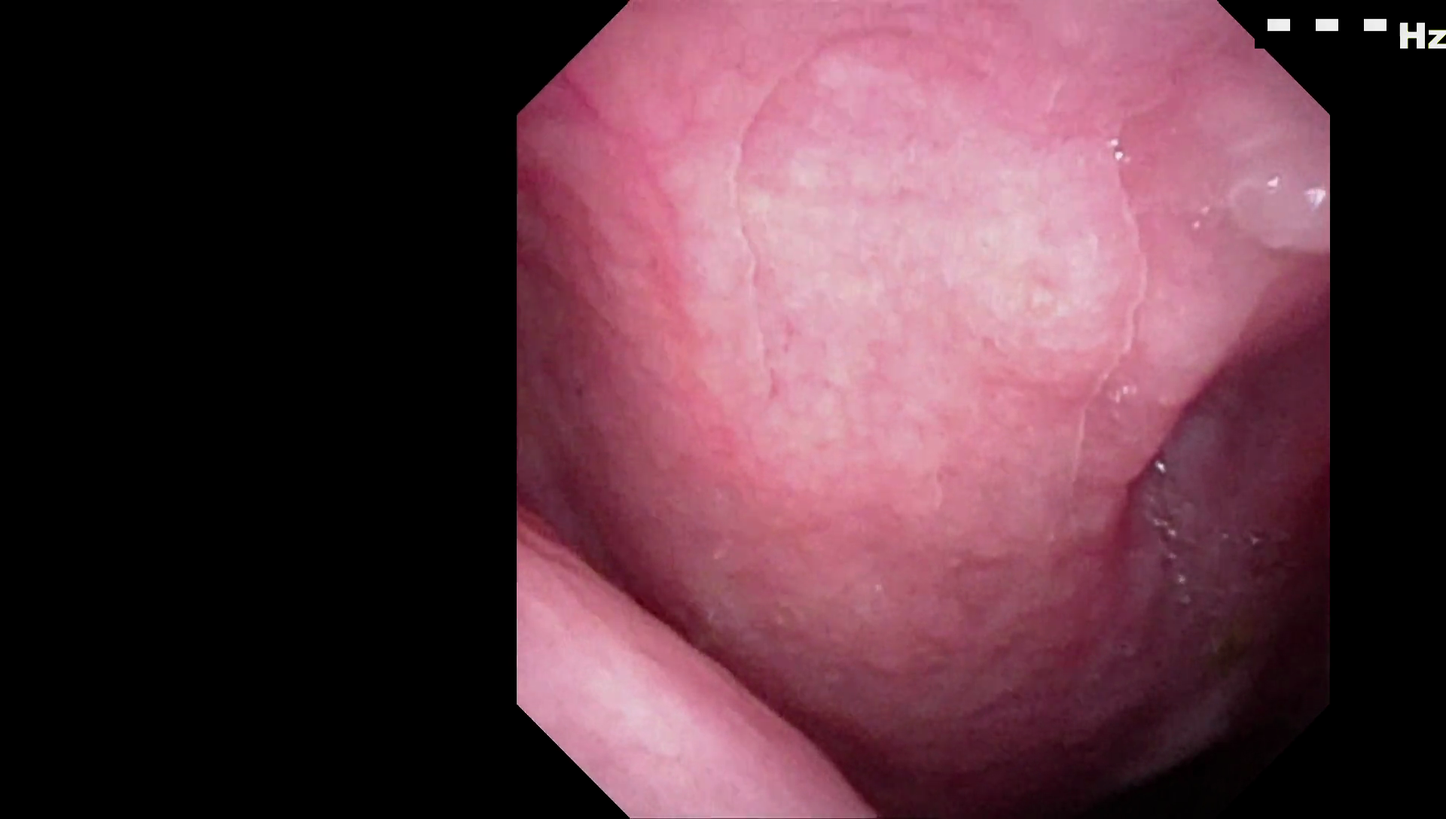close_wall: (661, 57, 1226, 474), (524, 500, 848, 817)
next: (1060, 641, 1302, 796)
